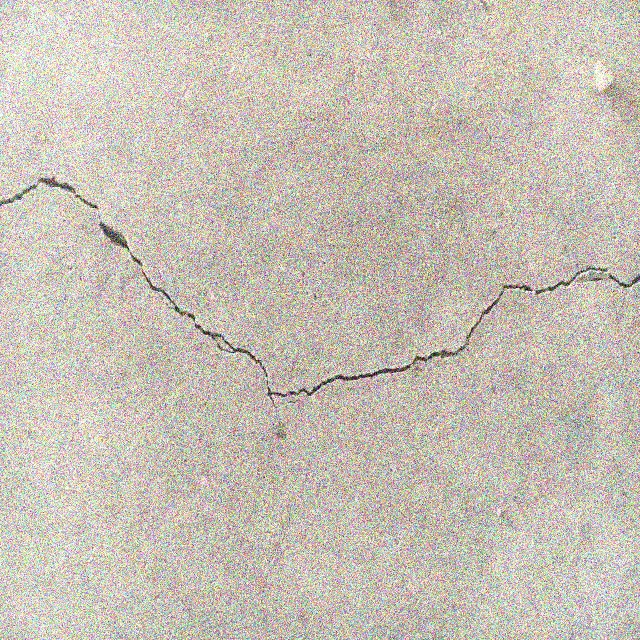SurfaceCrack: (1, 137, 640, 430)
